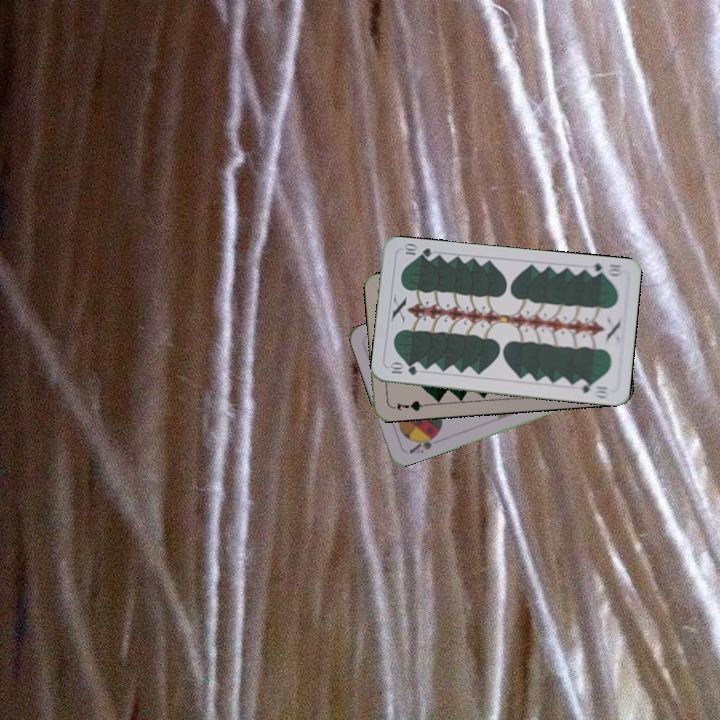G10: (584, 259, 625, 279), (385, 360, 420, 378)
G7: (393, 397, 428, 414)
SA: (405, 430, 442, 456)
